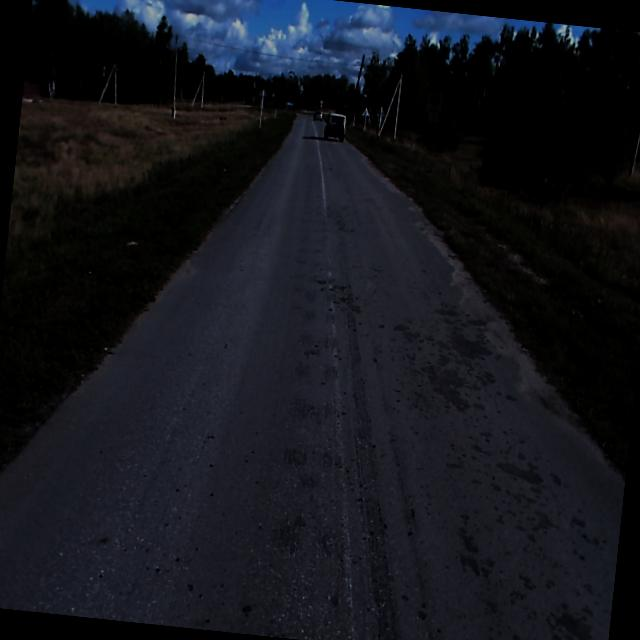road: (0, 114, 624, 640)
